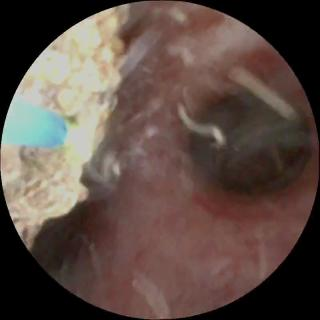fiber: (4, 104, 66, 143)
stone: (3, 9, 129, 248)
tissue: (37, 9, 309, 309)
